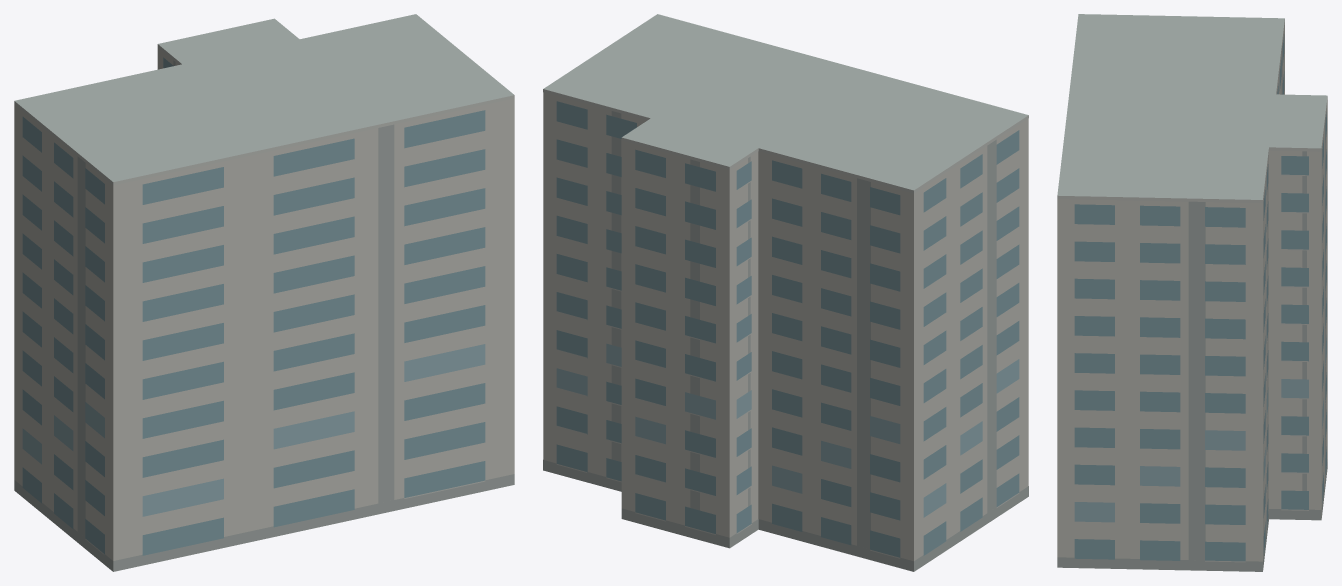
The model's file is residential-d8f34ea9-3ddf-4fc0-b1c2-ad6699bc3e43.glb.
3 views of the same model, side by side, from view 1: azimuth 30°, elevation 25°; view 2: azimuth 150°, elevation 25°; view 3: azimuth 270°, elevation 25° (orthographic). The views are drawn at different scales.
Parts seen in each view (by area): view 1: residential-d8f34ea9-3ddf-4fc0-b1c2-ad6699bc3e43.tmp; view 2: residential-d8f34ea9-3ddf-4fc0-b1c2-ad6699bc3e43.tmp; view 3: residential-d8f34ea9-3ddf-4fc0-b1c2-ad6699bc3e43.tmp.
Boxes of the visible parts, <box> form: residential-d8f34ea9-3ddf-4fc0-b1c2-ad6699bc3e43.tmp: <box>14,14,514,571</box>; residential-d8f34ea9-3ddf-4fc0-b1c2-ad6699bc3e43.tmp: <box>543,14,1028,571</box>; residential-d8f34ea9-3ddf-4fc0-b1c2-ad6699bc3e43.tmp: <box>1057,14,1327,571</box>.
Bounding box in the file's own units: 31.12 × 29 × 19.11.
